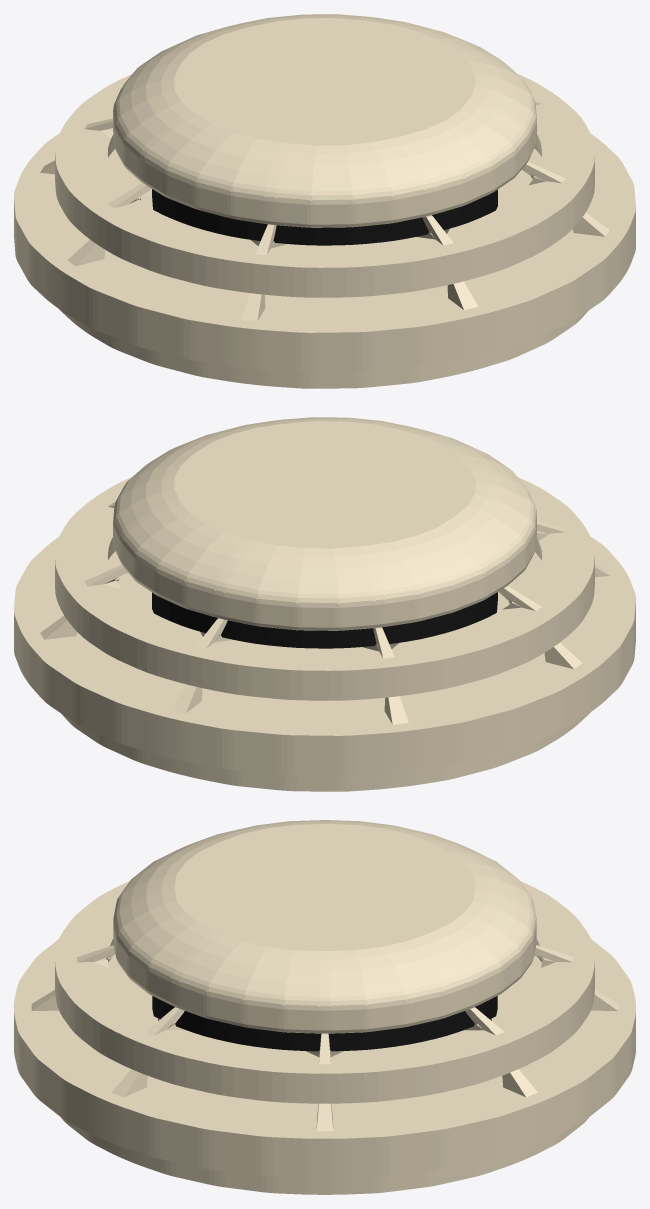
The model's file is sens.glb.
The picture shows the model from 3 angles, top to bottom: view 1: azimuth 30°, elevation 25°; view 2: azimuth 150°, elevation 25°; view 3: azimuth 270°, elevation 25°; orthographic projection.
Visible parts, largest first — view 1: ring.001, ring1.001, ring2.001, ring.002; view 2: ring.001, ring1.001, ring2.001, ring.002; view 3: ring.001, ring1.001, ring2.001, ring.002.
Boxes of the visible parts, x1=… form: ring.001: x1=113, y1=14, x2=536, y2=227; ring1.001: x1=14, y1=133, x2=635, y2=388; ring2.001: x1=55, y1=74, x2=594, y2=297; ring.002: x1=152, y1=189, x2=497, y2=245; ring.001: x1=113, y1=417, x2=536, y2=630; ring1.001: x1=14, y1=536, x2=635, y2=791; ring2.001: x1=55, y1=477, x2=594, y2=700; ring.002: x1=152, y1=592, x2=497, y2=648; ring.001: x1=113, y1=820, x2=536, y2=1033; ring1.001: x1=14, y1=939, x2=635, y2=1194; ring2.001: x1=55, y1=881, x2=594, y2=1103; ring.002: x1=152, y1=996, x2=497, y2=1051.
Bounding box in the file's own units: 0.2796 × 0.0935 × 0.2796.
